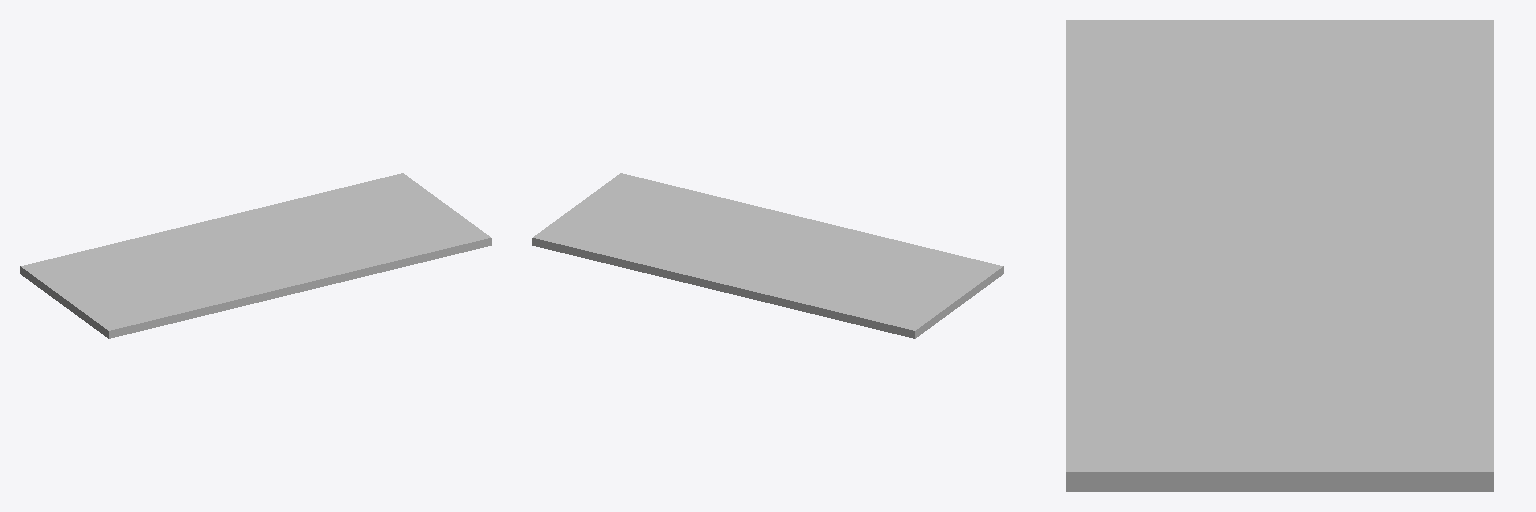
URDF robot description (car):
<?xml version="1.0" ?>
<!-- =================================================================================== -->
<!-- |    This document was autogenerated by xacro from ./car.urdf.xacro               | -->
<!-- |    EDITING THIS FILE BY HAND IS NOT RECOMMENDED                                 | -->
<!-- =================================================================================== -->
<robot name="car">
  <material name="gray">
    <color rgba="0.8 0.8 0.8 1"/>
  </material>
  <link name="base">
    <visual>
      <origin rpy="0.0 0.0 0.0" xyz="0.0 0.0 0.0"/>
      <geometry>
        <box size="5 2 0.1"/>
      </geometry>
      <material name="gray"/>
    </visual>
    <inertial>
      <origin rpy="0.0 0.0 0.0" xyz="0.0 0.0 0.0"/>
      <mass value="100.0"/>
      <inertia ixx="1.0" ixy="0.0" ixz="0.0" iyy="1.0" iyz="0.0" izz="1.0"/>
    </inertial>
    <collision>
      <origin rpy="0.0 0.0 0.0" xyz="0.0 0.0 0.0"/>
      <geometry>
        <box size="5 2 0.1"/>
      </geometry>
    </collision>
  </link>
  <link name="turn_left_turn">
        </link>
  <joint name="joint_left_turn" type="prismatic">
    <origin rpy="0 0 0" xyz="-2 -1.025 0"/>
    <parent link="base"/>
    <child link="turn_left_turn"/>
    <axis xyz="0.0 0.0 1"/>
    <limit effort="1.0" lower="-3.1415926" upper="3.1415926" velocity="1.0"/>
  </joint>
  <link name="wheel_left_bottom">
    <inertial>
      <origin rpy="0.0 0.0 0.0" xyz="0.0 0.0 0.0"/>
      <mass value="10.0"/>
      <inertia ixx="1.0" ixy="0.0" ixz="0.0" iyy="1.0" iyz="0.0" izz="1.0"/>
    </inertial>
    <visual>
      <origin rpy="0.0 0.0 0.0" xyz="0.0 -0.025 0"/>
      <geometry>
        <mesh filename="package://car_description/meshes/Wheel.dae" scale="7 7 7"/>
      </geometry>
    </visual>
    <collision>
      <origin rpy="1.5707963  0.0 0.0" xyz="0.0 0.0 0.0"/>
      <geometry>
        <cylinder length="0.05" radius="0.25"/>
      </geometry>
      <surface>
        <friction>
          <ode>
            <mu>1000000.0</mu>
            <mu2>1000000.0</mu2>
            <slip1>1.0</slip1>
            <slip2>1.0</slip2>
          </ode>
        </friction>
      </surface>
    </collision>
  </link>
  <joint name="joint_left_bottom" type="continuous">
    <origin rpy="0 0 0" xyz="0 0 0"/>
    <parent link="turn_left_turn"/>
    <child link="wheel_left_bottom"/>
    <axis xyz="0.0 1 0.0"/>
    <dynamics damping="0.7" friction="1000"/>
  </joint>
  <link name="turn_right_turn">
        </link>
  <joint name="joint_right_turn" type="prismatic">
    <origin rpy="0 0 0" xyz="-2 1.025 0"/>
    <parent link="base"/>
    <child link="turn_right_turn"/>
    <axis xyz="0.0 0.0 1"/>
    <limit effort="1.0" lower="-3.1415926" upper="3.1415926" velocity="1.0"/>
  </joint>
  <link name="wheel_left_top">
    <inertial>
      <origin rpy="0.0 0.0 0.0" xyz="0.0 0.0 0.0"/>
      <mass value="10.0"/>
      <inertia ixx="1.0" ixy="0.0" ixz="0.0" iyy="1.0" iyz="0.0" izz="1.0"/>
    </inertial>
    <visual>
      <origin rpy="0.0 0.0 0.0" xyz="0.0 -0.025 0"/>
      <geometry>
        <mesh filename="package://car_description/meshes/Wheel.dae" scale="7 7 7"/>
      </geometry>
    </visual>
    <collision>
      <origin rpy="1.5707963  0.0 0.0" xyz="0.0 0.0 0.0"/>
      <geometry>
        <cylinder length="0.05" radius="0.25"/>
      </geometry>
      <surface>
        <friction>
          <ode>
            <mu>1000000.0</mu>
            <mu2>1000000.0</mu2>
            <slip1>1.0</slip1>
            <slip2>1.0</slip2>
          </ode>
        </friction>
      </surface>
    </collision>
  </link>
  <joint name="joint_left_top" type="continuous">
    <origin rpy="0 0 0" xyz="0 0 0"/>
    <parent link="turn_right_turn"/>
    <child link="wheel_left_top"/>
    <axis xyz="0.0 1 0.0"/>
    <dynamics damping="0.7" friction="1000"/>
  </joint>
  <link name="wheel_right_bottom">
    <inertial>
      <origin rpy="0.0 0.0 0.0" xyz="0.0 0.0 0.0"/>
      <mass value="10.0"/>
      <inertia ixx="1.0" ixy="0.0" ixz="0.0" iyy="1.0" iyz="0.0" izz="1.0"/>
    </inertial>
    <visual>
      <origin rpy="3.1415926 0.0 0.0" xyz="0.0 0.025 0"/>
      <geometry>
        <mesh filename="package://car_description/meshes/Wheel.dae" scale="7 7 7"/>
      </geometry>
    </visual>
    <collision>
      <origin rpy="1.5707963  0.0 0.0" xyz="0.0 0.0 0.0"/>
      <geometry>
        <cylinder length="0.05" radius="0.25"/>
      </geometry>
      <surface>
        <friction>
          <ode>
            <mu>1000000.0</mu>
            <mu2>1000000.0</mu2>
            <slip1>1.0</slip1>
            <slip2>1.0</slip2>
          </ode>
        </friction>
      </surface>
    </collision>
  </link>
  <joint name="joint_right_bottom" type="continuous">
    <origin rpy="0 0 0" xyz="2 -1.025 0"/>
    <parent link="base"/>
    <child link="wheel_right_bottom"/>
    <axis xyz="0.0 1 0.0"/>
    <dynamics damping="0.7" friction="1000"/>
  </joint>
  <link name="wheel_right_top">
    <inertial>
      <origin rpy="0.0 0.0 0.0" xyz="0.0 0.0 0.0"/>
      <mass value="10.0"/>
      <inertia ixx="1.0" ixy="0.0" ixz="0.0" iyy="1.0" iyz="0.0" izz="1.0"/>
    </inertial>
    <visual>
      <origin rpy="0.0 0.0 0.0" xyz="0.0 -0.025 0"/>
      <geometry>
        <mesh filename="package://car_description/meshes/Wheel.dae" scale="7 7 7"/>
      </geometry>
    </visual>
    <collision>
      <origin rpy="1.5707963  0.0 0.0" xyz="0.0 0.0 0.0"/>
      <geometry>
        <cylinder length="0.05" radius="0.25"/>
      </geometry>
      <surface>
        <friction>
          <ode>
            <mu>1000000.0</mu>
            <mu2>1000000.0</mu2>
            <slip1>1.0</slip1>
            <slip2>1.0</slip2>
          </ode>
        </friction>
      </surface>
    </collision>
  </link>
  <joint name="joint_right_top" type="continuous">
    <origin rpy="0 0 0" xyz="2 1.025 0"/>
    <parent link="base"/>
    <child link="wheel_right_top"/>
    <axis xyz="0.0 1 0.0"/>
    <dynamics damping="0.7" friction="1000"/>
  </joint>
  <ros2_control name="IgnitionSystem" type="system">
    <hardware>
      <plugin>ign_ros2_control/IgnitionSystem</plugin>
    </hardware>
    <joint name="joint_left_bottom">
      <command_interface name="velocity">
        <param name="min">-5</param>
        <param name="max">5</param>
      </command_interface>
      <state_interface name="position"/>
      <state_interface name="velocity"/>
      <state_interface name="effort"/>
    </joint>
    <joint name="joint_left_top">
      <command_interface name="velocity">
        <param name="min">-5</param>
        <param name="max">5</param>
      </command_interface>
      <state_interface name="position"/>
      <state_interface name="velocity"/>
      <state_interface name="effort"/>
    </joint>
    <joint name="joint_right_bottom">
      <command_interface name="velocity">
        <param name="min">-5</param>
        <param name="max">5</param>
      </command_interface>
      <state_interface name="position"/>
      <state_interface name="velocity"/>
      <state_interface name="effort"/>
    </joint>
    <joint name="joint_right_top">
      <command_interface name="velocity">
        <param name="min">-5</param>
        <param name="max">5</param>
      </command_interface>
      <state_interface name="position"/>
      <state_interface name="velocity"/>
      <state_interface name="effort"/>
    </joint>
    <joint name="joint_left_turn">
      <command_interface name="position">
        <param name="min">-3.1415926</param>
        <param name="max">3.1415926</param>
      </command_interface>
      <state_interface name="position"/>
      <state_interface name="velocity"/>
      <state_interface name="effort"/>
    </joint>
    <joint name="joint_right_turn">
      <command_interface name="position">
        <param name="min">-3.1415926</param>
        <param name="max">3.1415926</param>
      </command_interface>
      <state_interface name="position"/>
      <state_interface name="velocity"/>
      <state_interface name="effort"/>
    </joint>
  </ros2_control>
  <gazebo>
    <!-- Joint state publisher -->
    <plugin filename="ign_ros2_control-system" name="ign_ros2_control::IgnitionROS2ControlPlugin">
      <parameters>[local-path]/ros2/sim_car/install/car_description/share/car_description/config/car.yaml</parameters>
    </plugin>
  </gazebo>
</robot>

--- Render facts (derived) ---
3 views of the same robot in one strip: view 1: azimuth 30°, elevation 25°; view 2: azimuth 150°, elevation 25°; view 3: azimuth 270°, elevation 25° (orthographic).
Robot: car — 7 links, 6 joints (4 continuous, 2 prismatic); root link base; default pose: all joints at 0.
Visible links, largest first — view 1: base; view 2: base; view 3: base.
Link boxes in pixels (box(x1,y1,x2,y2)): base: box(20, 173, 491, 338); base: box(532, 173, 1003, 338); base: box(1066, 20, 1493, 491).
Bounding box of the posed robot: 5 × 2 × 0.1 m (x, y, z).
0 mesh visuals loaded from 1 distinct referenced files (none loaded); not drawn: 4 (reference not matched to a file when rendering).